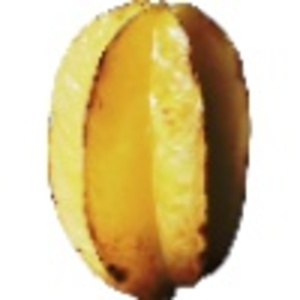carambola: (45, 1, 253, 300)
